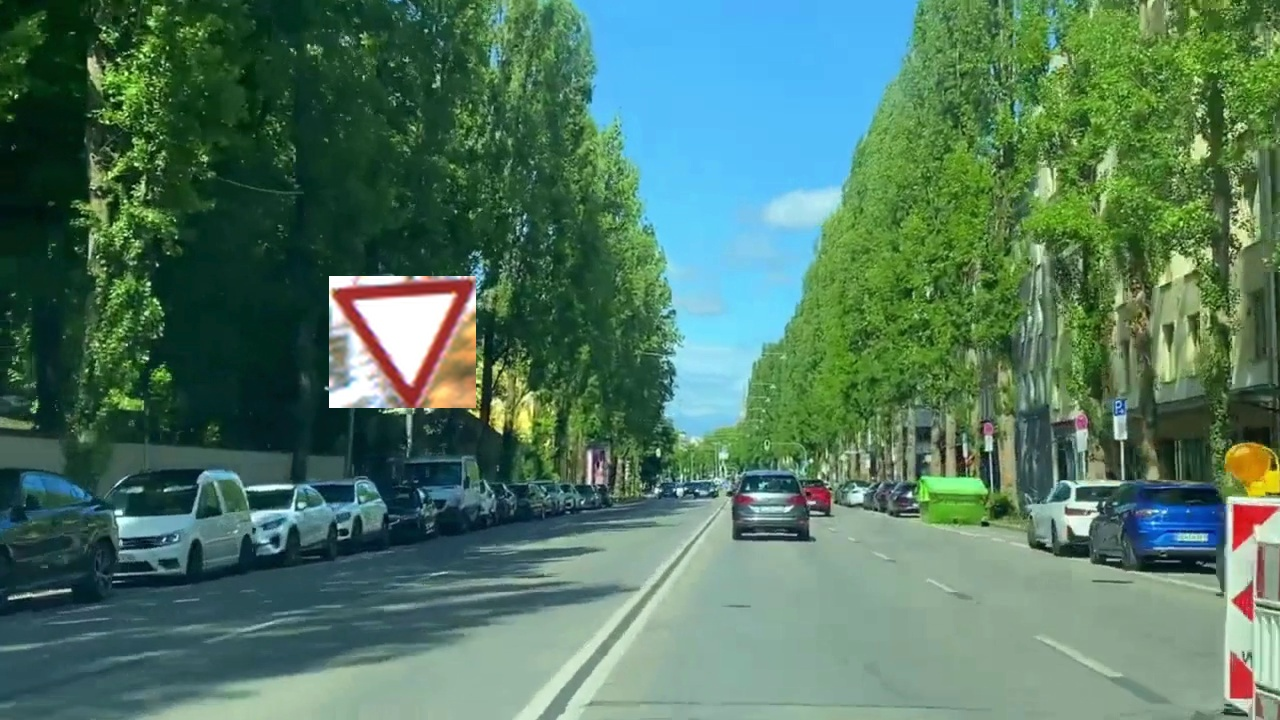Yield: (329, 276, 476, 408)
